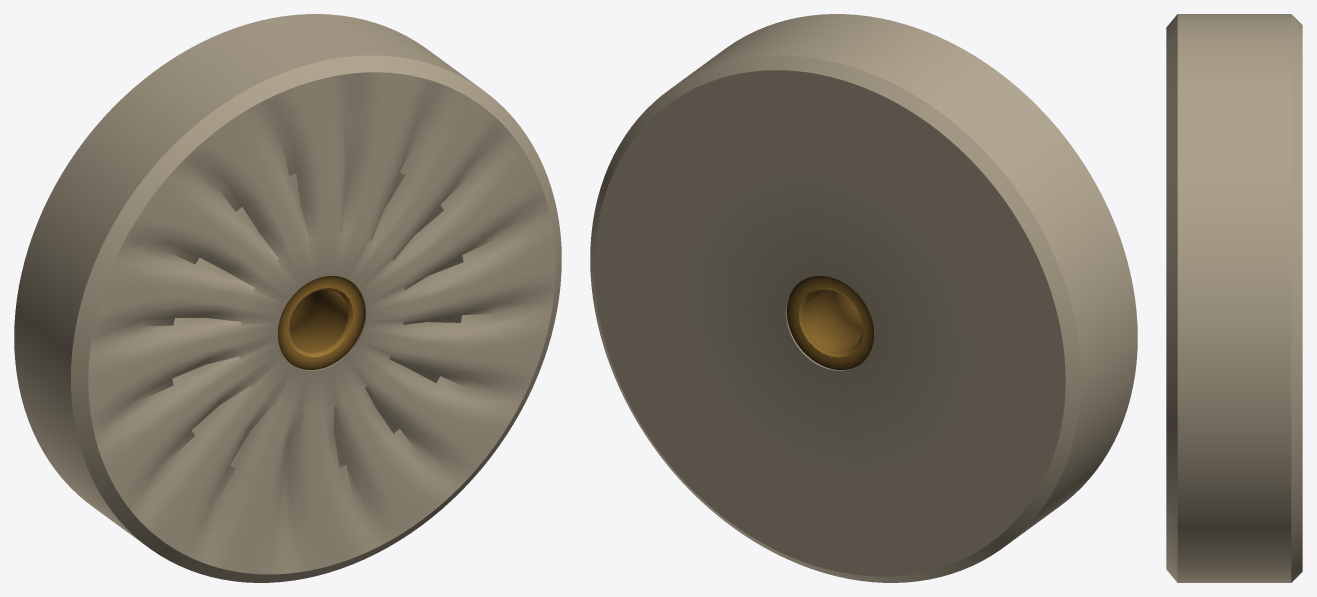
The model's file is windmill_millstone.glb.
The picture shows the model from 3 angles, left to right: view 1: azimuth 30°, elevation 25°; view 2: azimuth 150°, elevation 25°; view 3: azimuth 270°, elevation 25°; orthographic projection.
Parts seen in each view (by area): view 1: WindmillMillstone; view 2: WindmillMillstone; view 3: WindmillMillstone.
Part boxes in pixels (x1,y1,x2,y2): WindmillMillstone: (14,14,561,582); WindmillMillstone: (590,14,1137,582); WindmillMillstone: (1166,14,1302,582).
Size of the model in its own units: 0.05 by 0.05 by 0.012.
